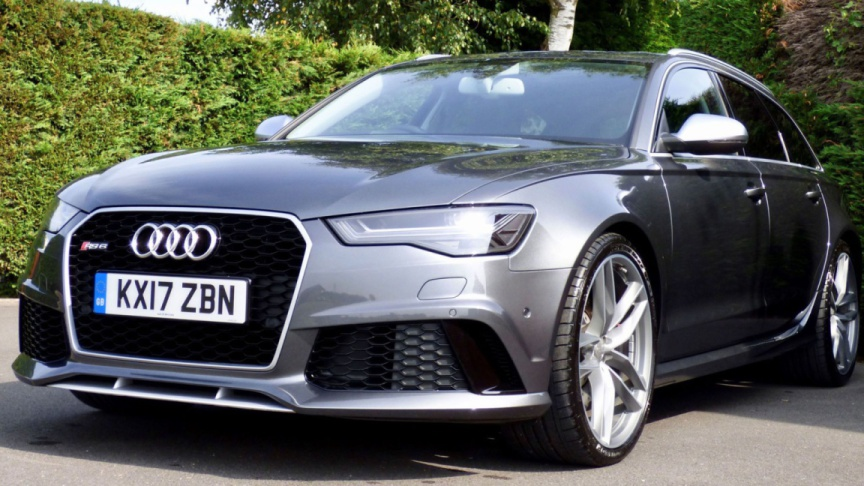audi: (122, 215, 227, 266)
